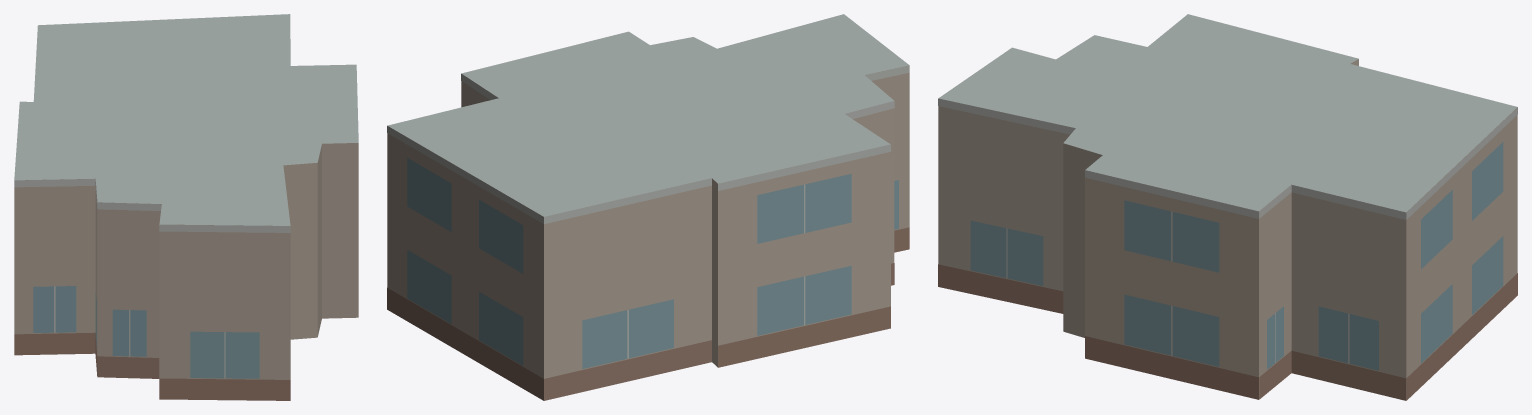
File: survey-upis-32935954.glb
The picture shows the model from 3 angles, left to right: view 1: azimuth 30°, elevation 25°; view 2: azimuth 150°, elevation 25°; view 3: azimuth 270°, elevation 25°; orthographic projection. The views are drawn at different scales.
Visible parts, largest first — view 1: survey-upis-32935954.tmp; view 2: survey-upis-32935954.tmp; view 3: survey-upis-32935954.tmp.
Boxes of the visible parts, <box> form: survey-upis-32935954.tmp: <box>14,14,358,400</box>; survey-upis-32935954.tmp: <box>387,14,909,400</box>; survey-upis-32935954.tmp: <box>938,14,1517,400</box>.
Size of the model in its own units: 13.79 by 6.1 by 17.01.
